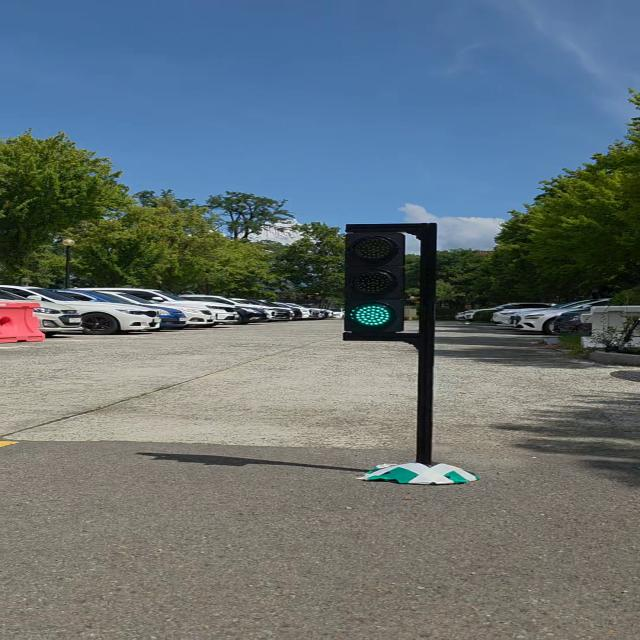green: (345, 225, 405, 337)
